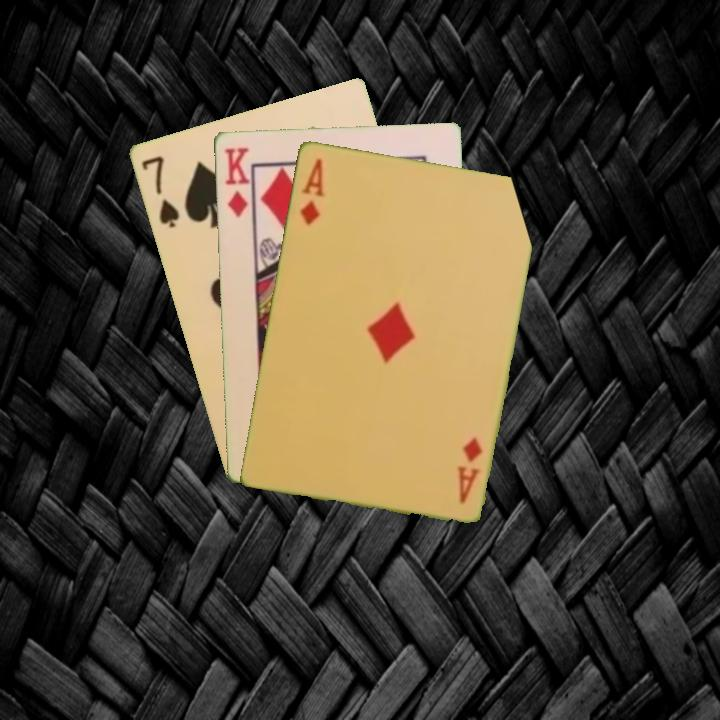7s: (137, 152, 182, 231)
Ad: (453, 432, 485, 507), (296, 154, 327, 228)
Kd: (220, 143, 252, 220)
